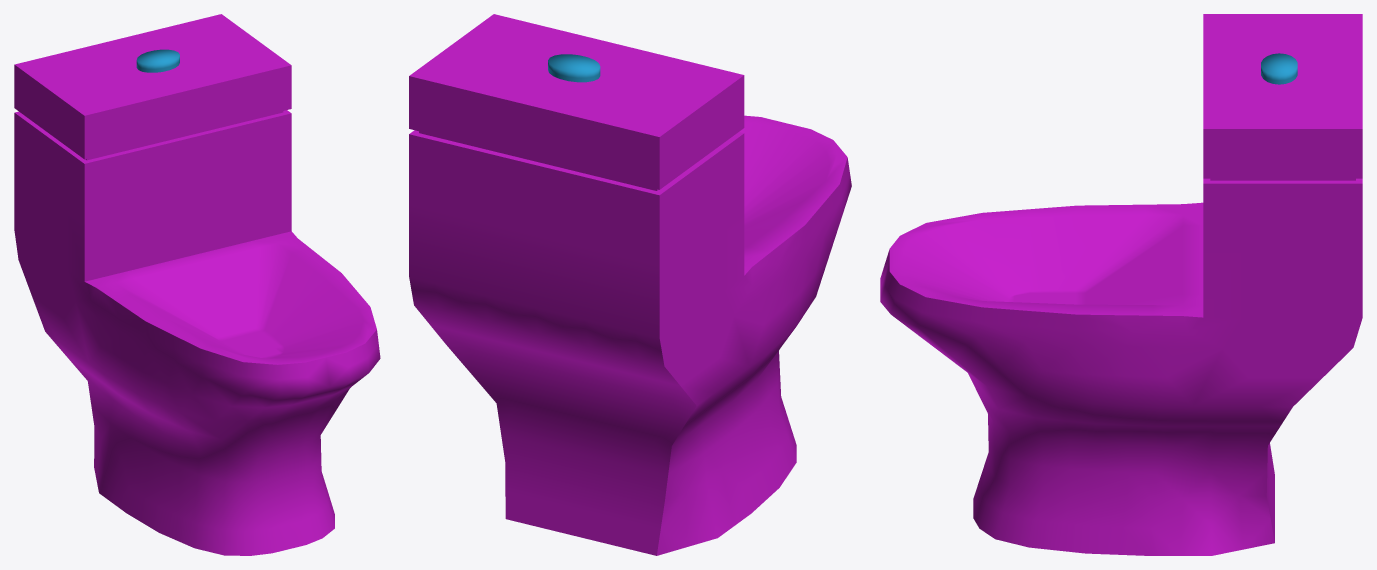
The model's file is ban.obj.
3 renders of one model, left to right at view 1: azimuth 30°, elevation 25°; view 2: azimuth 150°, elevation 25°; view 3: azimuth 270°, elevation 25°, orthographic. The views are drawn at different scales.
Visible parts, largest first — view 1: object 1, Cylinder001; view 2: object 1, Cylinder001; view 3: object 1, Cylinder001.
Boxes of the visible parts, left/top/right/bottom form: object 1: left=14, top=14, right=380, bottom=555; Cylinder001: left=136, top=49, right=179, bottom=72; object 1: left=409, top=14, right=851, bottom=555; Cylinder001: left=548, top=54, right=600, bottom=82; object 1: left=880, top=14, right=1362, bottom=555; Cylinder001: left=1261, top=53, right=1297, bottom=84.
Bounding box in the file's own units: 18.99 × 34.39 × 33.7.
2 materials, 2 textured.
